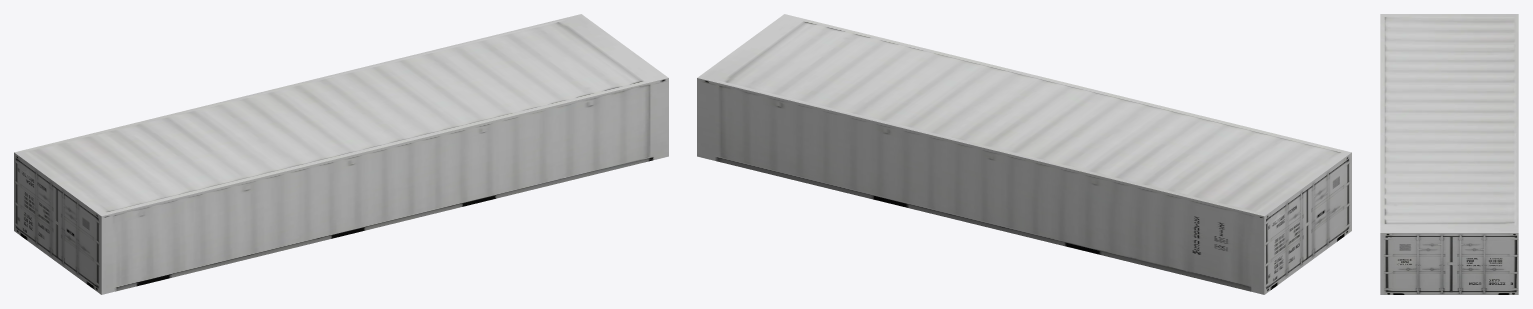
Rendered from 30ft_40_container.glb.
The picture shows the model from 3 angles, left to right: view 1: azimuth 30°, elevation 25°; view 2: azimuth 150°, elevation 25°; view 3: azimuth 270°, elevation 25°; orthographic projection. The views are drawn at different scales.
Parts seen in each view (by area): view 1: containerobjcleanermaterialmergergles; view 2: containerobjcleanermaterialmergergles; view 3: containerobjcleanermaterialmergergles.
Part boxes in pixels (left/top/right/bottom): containerobjcleanermaterialmergergles: left=14, top=14, right=668, bottom=294; containerobjcleanermaterialmergergles: left=697, top=14, right=1351, bottom=294; containerobjcleanermaterialmergergles: left=1380, top=14, right=1518, bottom=294.
Bounding box in the file's own units: 9.14 × 1.21 × 2.44.
Materials: 1 (1 with a texture image).
